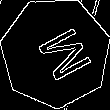M_SW: (23, 20, 88, 85)
